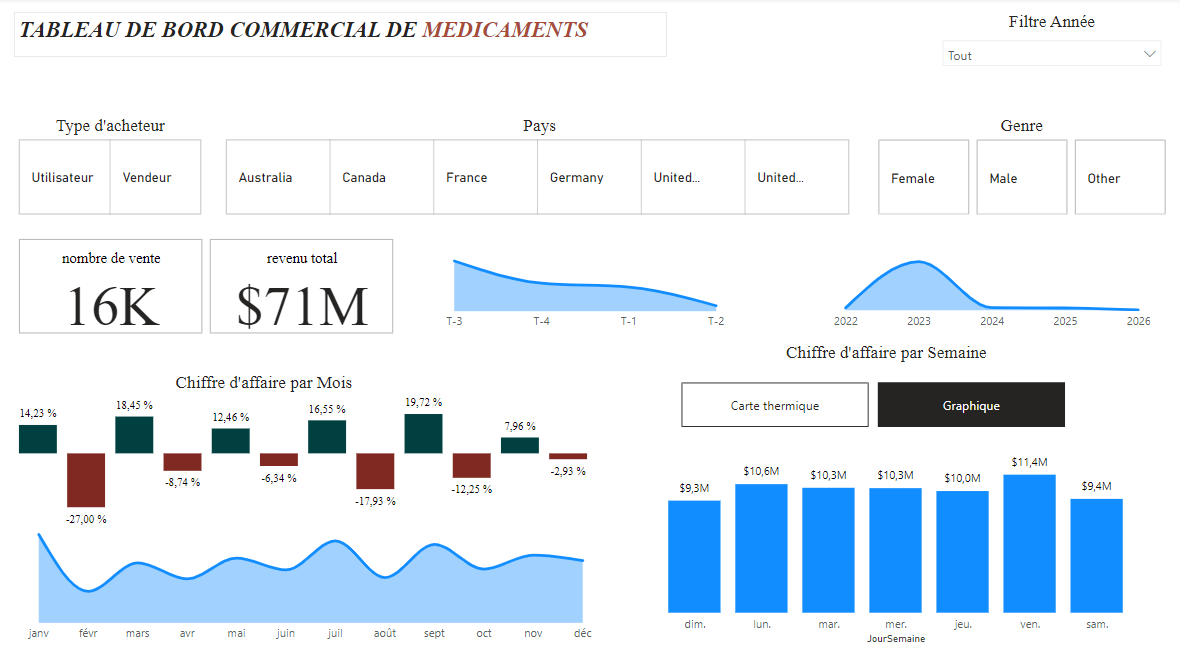

Layout of this report page (visuals, bound fields, positions):
{"tool":"powerbi","page":{"name":"calendrier","canvas":[1280,720],"ordinal":2},"visuals":[{"type":"cardVisual","fields":{"Data":["_mesures.nombre de vente","_mesures.revenu total"]},"box":[16,256,416,112],"z":0},{"type":"columnChart","title":"graphique","fields":{"Category":["date.JourSemaine"],"Y":["_mesures.revenu total"]},"box":[688,480,560,224],"z":0,"group":"g1"},{"type":"lineChart","fields":{"Y":["_mesures.revenu total"],"Category":["date.Année"]},"box":[880,272,368,112],"z":1000},{"type":"lineChart","fields":{"Category":["date.Trimestre"],"Y":["_mesures.revenu total"]},"box":[464,272,368,112],"z":2000},{"type":"lineChart","fields":{"Y":["_mesures.revenu total"],"Category":["date.Mois"]},"box":[16,560,640,144],"z":3000},{"type":"columnChart","fields":{"Category":["date.Mois"],"Y":["_mesures.variation d'un mois à un autre"]},"box":[16,432,640,160],"z":4000},{"type":"textbox","title":"titre","box":[832,400,256,32],"z":5000},{"type":"group","id":"g1","title":"Groupe 1","box":[672,480,608,224],"z":6000},{"type":"bookmarkNavigator","box":[752,432,416,48],"z":7000},{"type":"advancedSlicerVisual","title":"Pays","fields":{"Values":["CustomerTable.Country"]},"box":[240,128,688,112],"z":8000},{"type":"advancedSlicerVisual","title":"Genre","fields":{"Values":["CustomerTable.Gender"]},"box":[944,128,320,112],"z":9000},{"type":"advancedSlicerVisual","title":"Type d''acheteur","fields":{"Values":["FactTable.BuyerType"]},"box":[16,128,208,112],"z":10000},{"type":"textbox","title":"titre","box":[192,400,256,32],"z":11000},{"type":"textbox","box":[16,16,704,48],"z":12000},{"type":"slicer","title":"Filtre Année","fields":{"Values":["date.Année"]},"box":[1008,16,256,64],"z":13000},{"type":"textbox","title":"titre","box":[544,256,256,32],"z":14000},{"type":"textbox","title":"titre","box":[960,256,256,32],"z":15000},{"type":"pageNavigator","box":[368,64,544,48],"z":15001}]}

Visuals, with their boxes in screenshot pixels (x1, y1, x2, y2), scaled from the page's 1280x720 canvas onto the 1180x652 screenshot:
cardVisual - _mesures.nombre de vente x _mesures.revenu total: [15,232,398,333]
"graphique" columnChart: [634,435,1150,638]
lineChart - _mesures.revenu total x date.Année: [811,246,1150,348]
lineChart - date.Trimestre x _mesures.revenu total: [428,246,767,348]
lineChart - _mesures.revenu total x date.Mois: [15,507,605,638]
columnChart - date.Mois x _mesures.variation d'un mois à un autre: [15,391,605,536]
"titre" textbox: [767,362,1003,391]
"Groupe 1" group: [620,435,1179,638]
bookmarkNavigator: [693,391,1077,435]
"Pays" advancedSlicerVisual: [221,116,856,217]
"Genre" advancedSlicerVisual: [870,116,1165,217]
"Type d''acheteur" advancedSlicerVisual: [15,116,206,217]
"titre" textbox: [177,362,413,391]
textbox: [15,14,664,58]
"Filtre Année" slicer: [929,14,1165,72]
"titre" textbox: [502,232,738,261]
"titre" textbox: [885,232,1121,261]
pageNavigator: [339,58,841,101]
